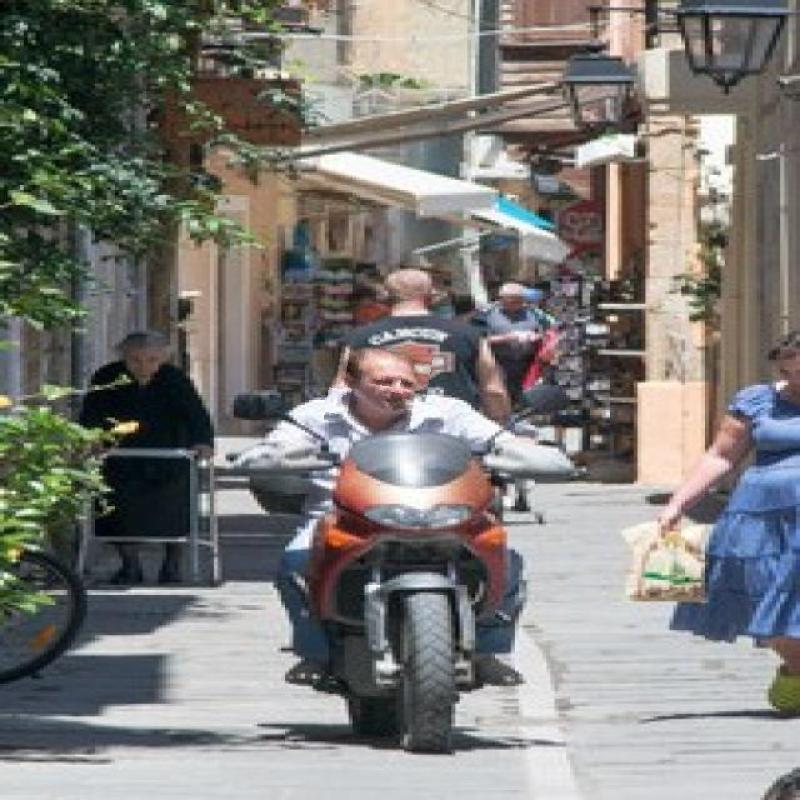nohelmet: (328, 342, 430, 432)
